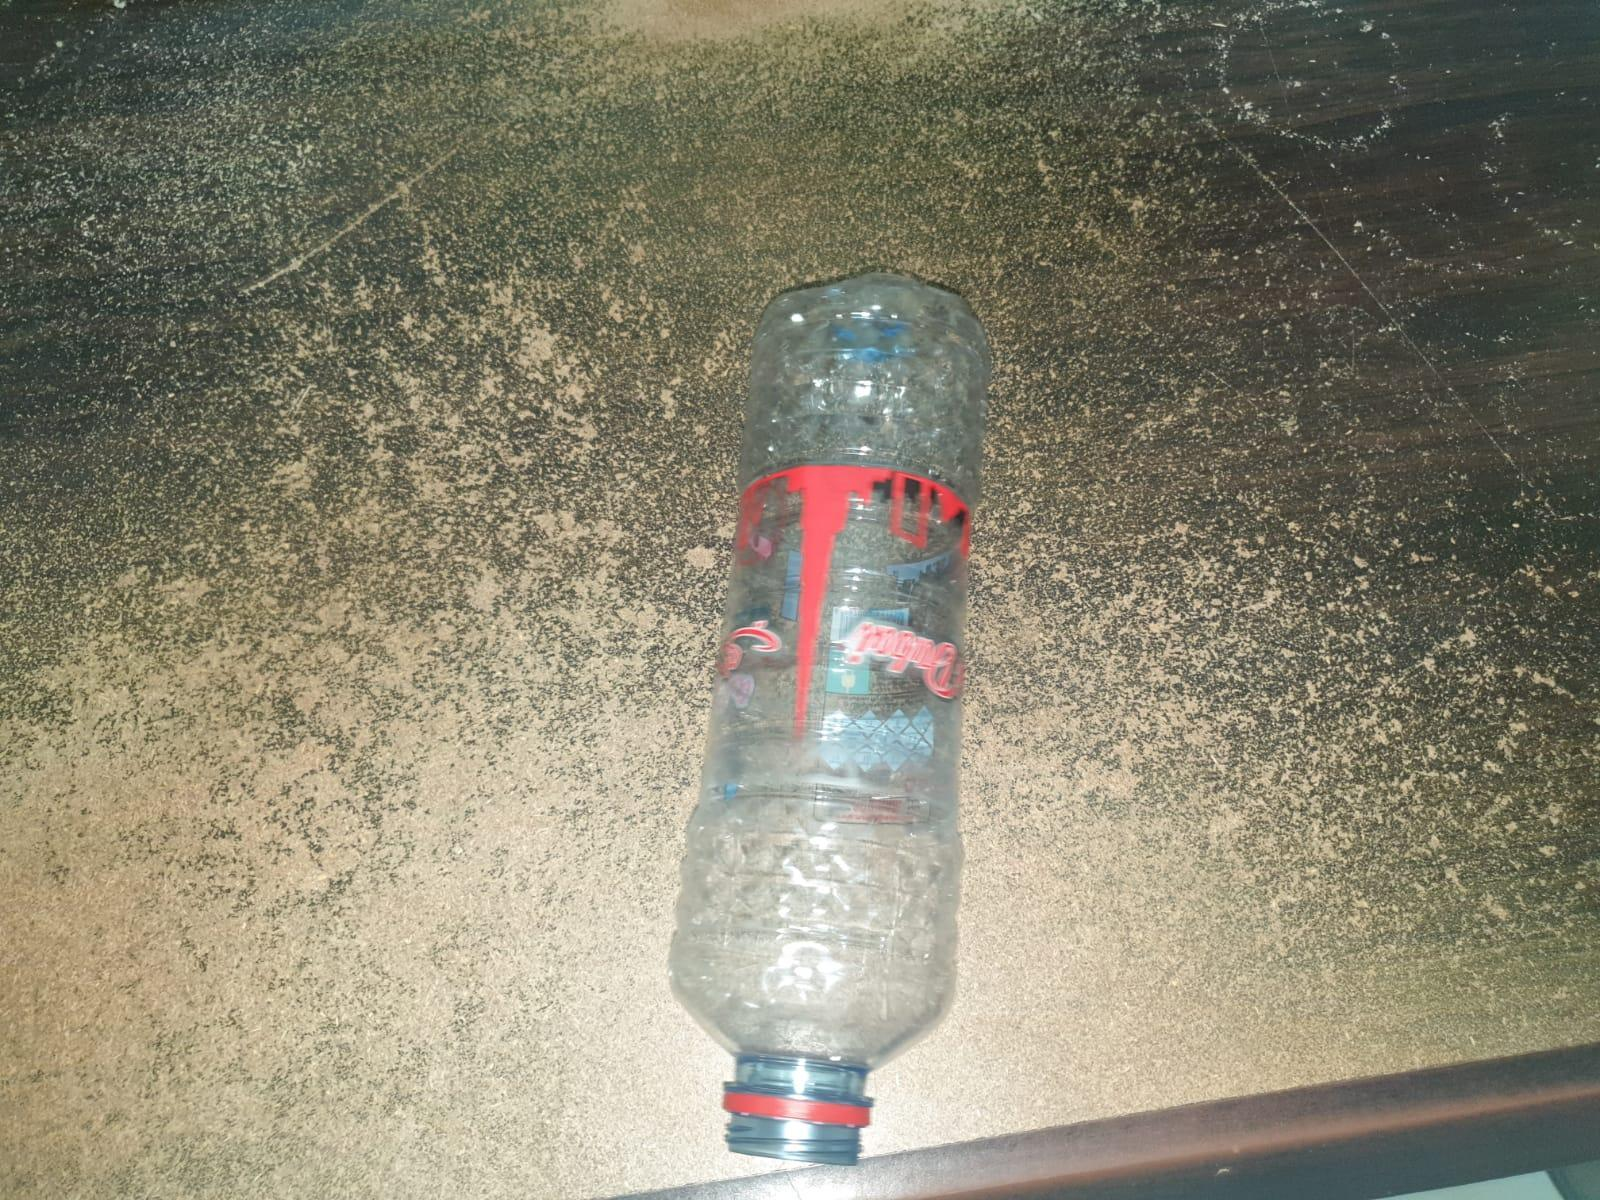bottle: (630, 280, 999, 1185)
